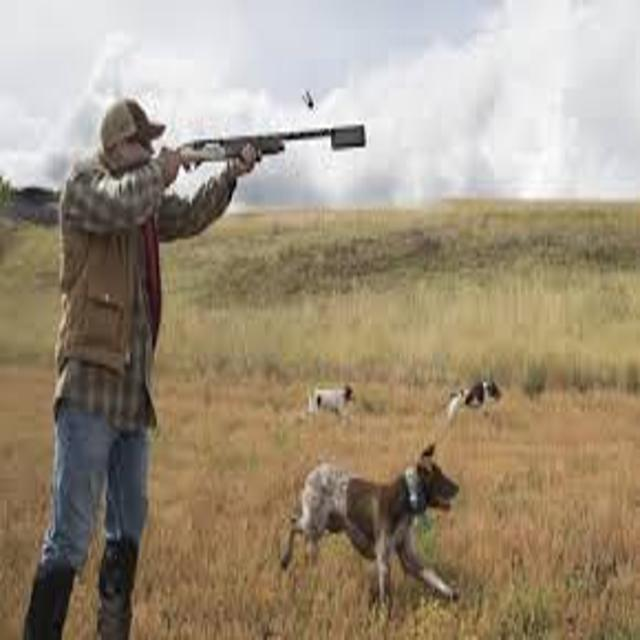dog: (247, 435, 495, 617), (275, 361, 387, 449), (428, 361, 537, 448)
gun: (135, 103, 399, 198)
poacher: (12, 76, 269, 634)
